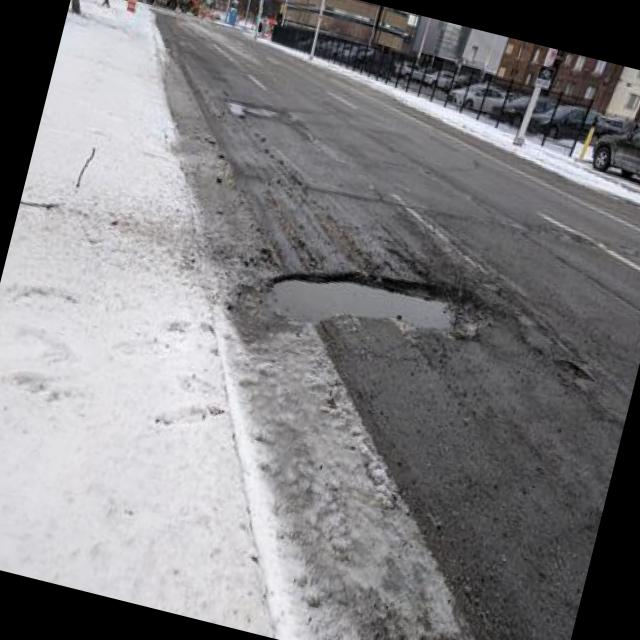Potholes: (266, 253, 474, 359)
